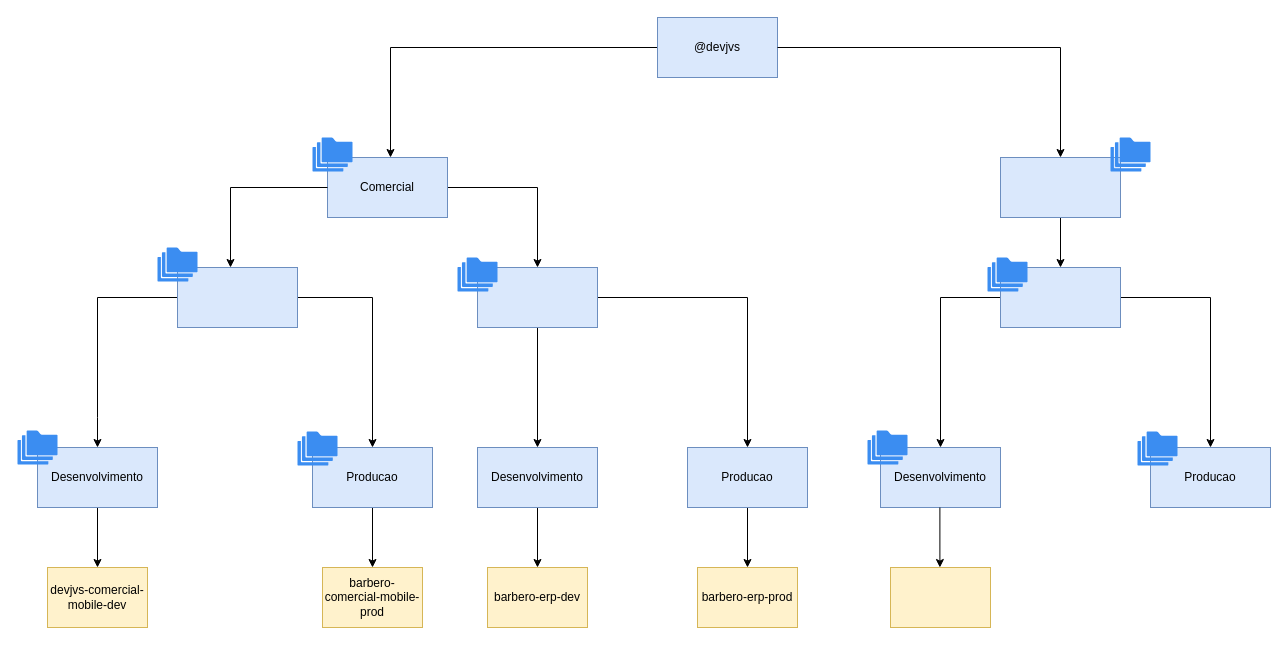
The diagram is 1288 pixels wide and 645 high, and some of its shapes have lost their labels. Each missing label, with the box of its shape:
barberosa-salesforce-dev: (890, 566, 990, 628)
ERP: (476, 266, 598, 328)
Financeira: (1000, 156, 1120, 218)
Mobile: (176, 266, 298, 328)
Sales Force: (1000, 266, 1120, 328)
